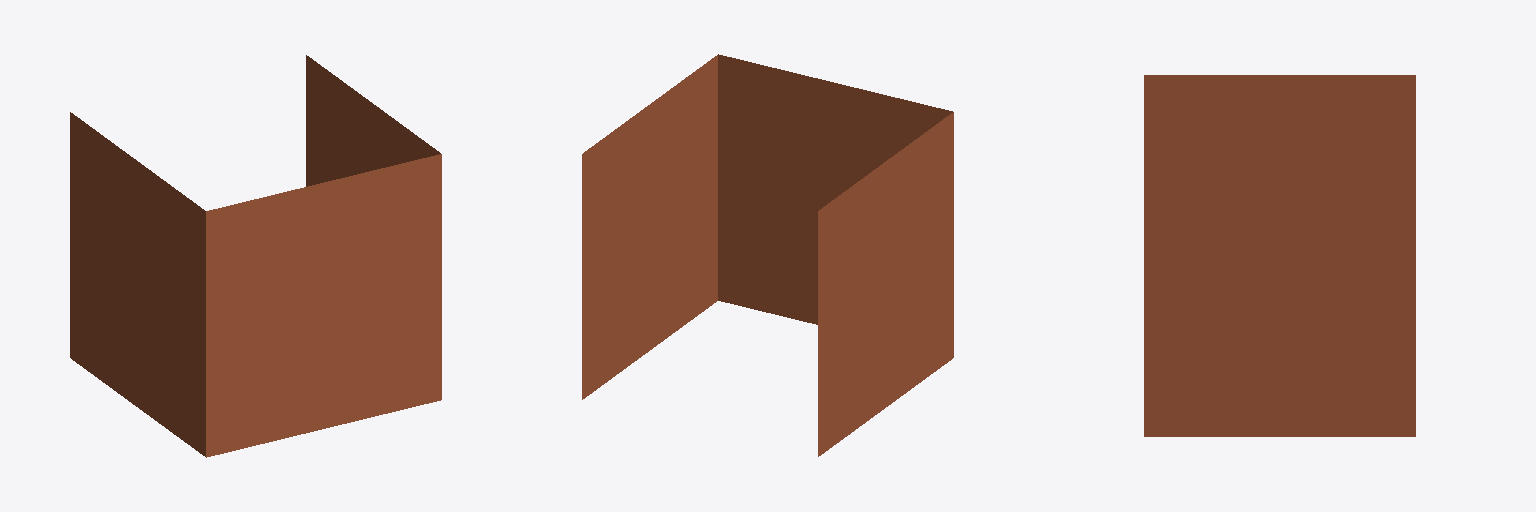
3 renders of one model, left to right at view 1: azimuth 30°, elevation 25°; view 2: azimuth 150°, elevation 25°; view 3: azimuth 270°, elevation 25°, orthographic.
Parts seen in each view (by area): view 1: grass_08; view 2: grass_08; view 3: grass_08.
Boxes of the visible parts, <box> form: grass_08: <box>70,55,441,457</box>; grass_08: <box>582,54,953,456</box>; grass_08: <box>1144,75,1415,436</box>.
Bounding box in the file's own units: 1 × 1 × 1.
Materials: 1 (1 with a texture image).